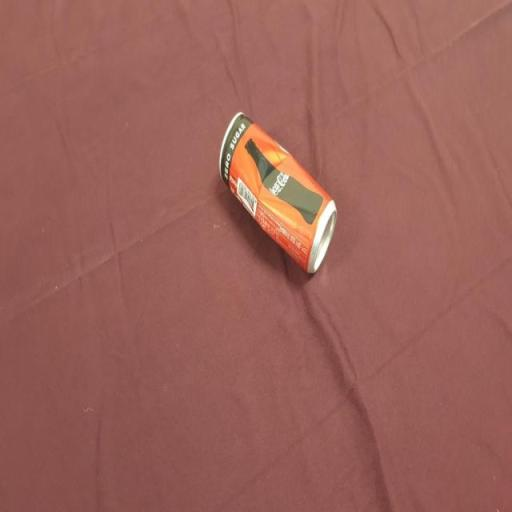metal: (205, 89, 348, 297)
